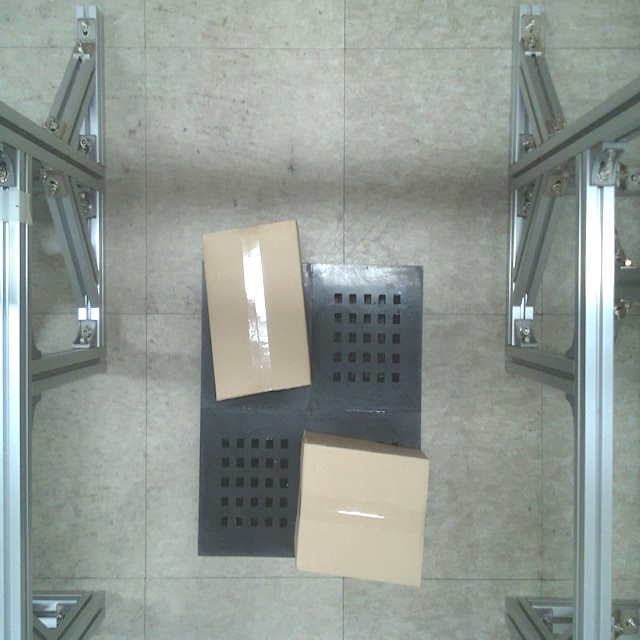box: (291, 435, 434, 596), (202, 219, 313, 405)
